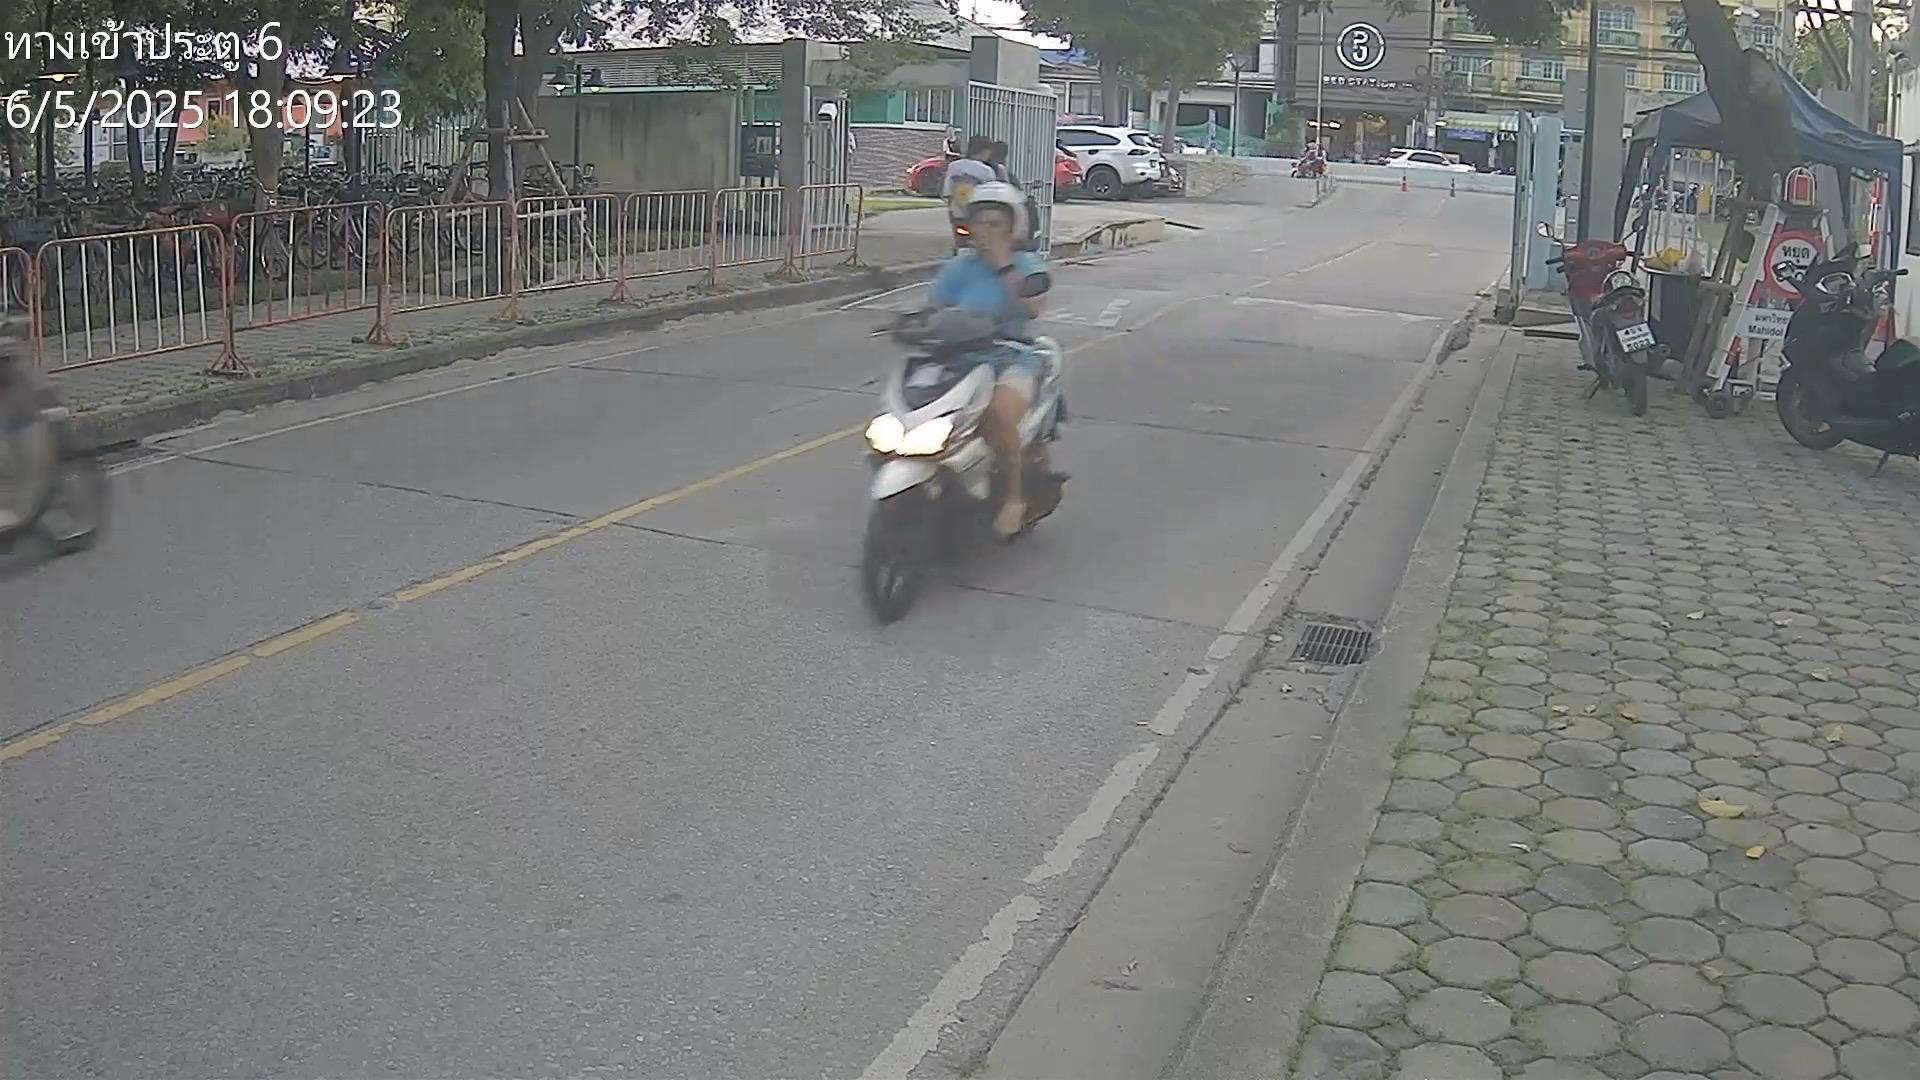With-Helmet: (964, 178, 1030, 251)
